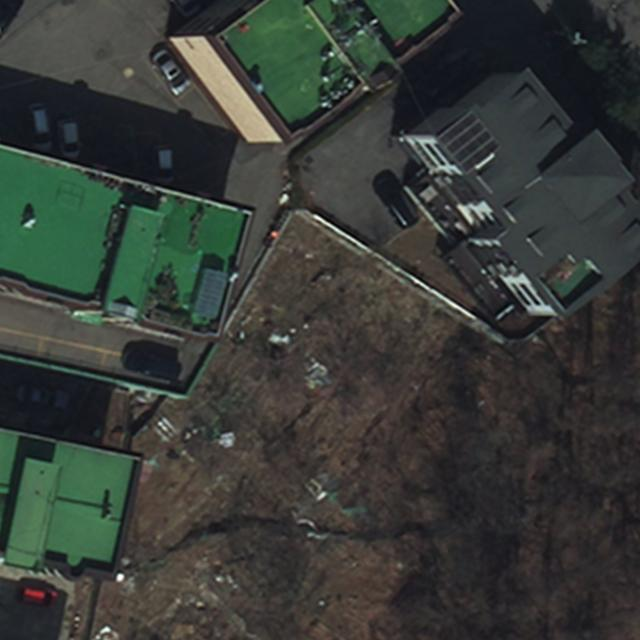panel: (434, 107, 504, 173)
